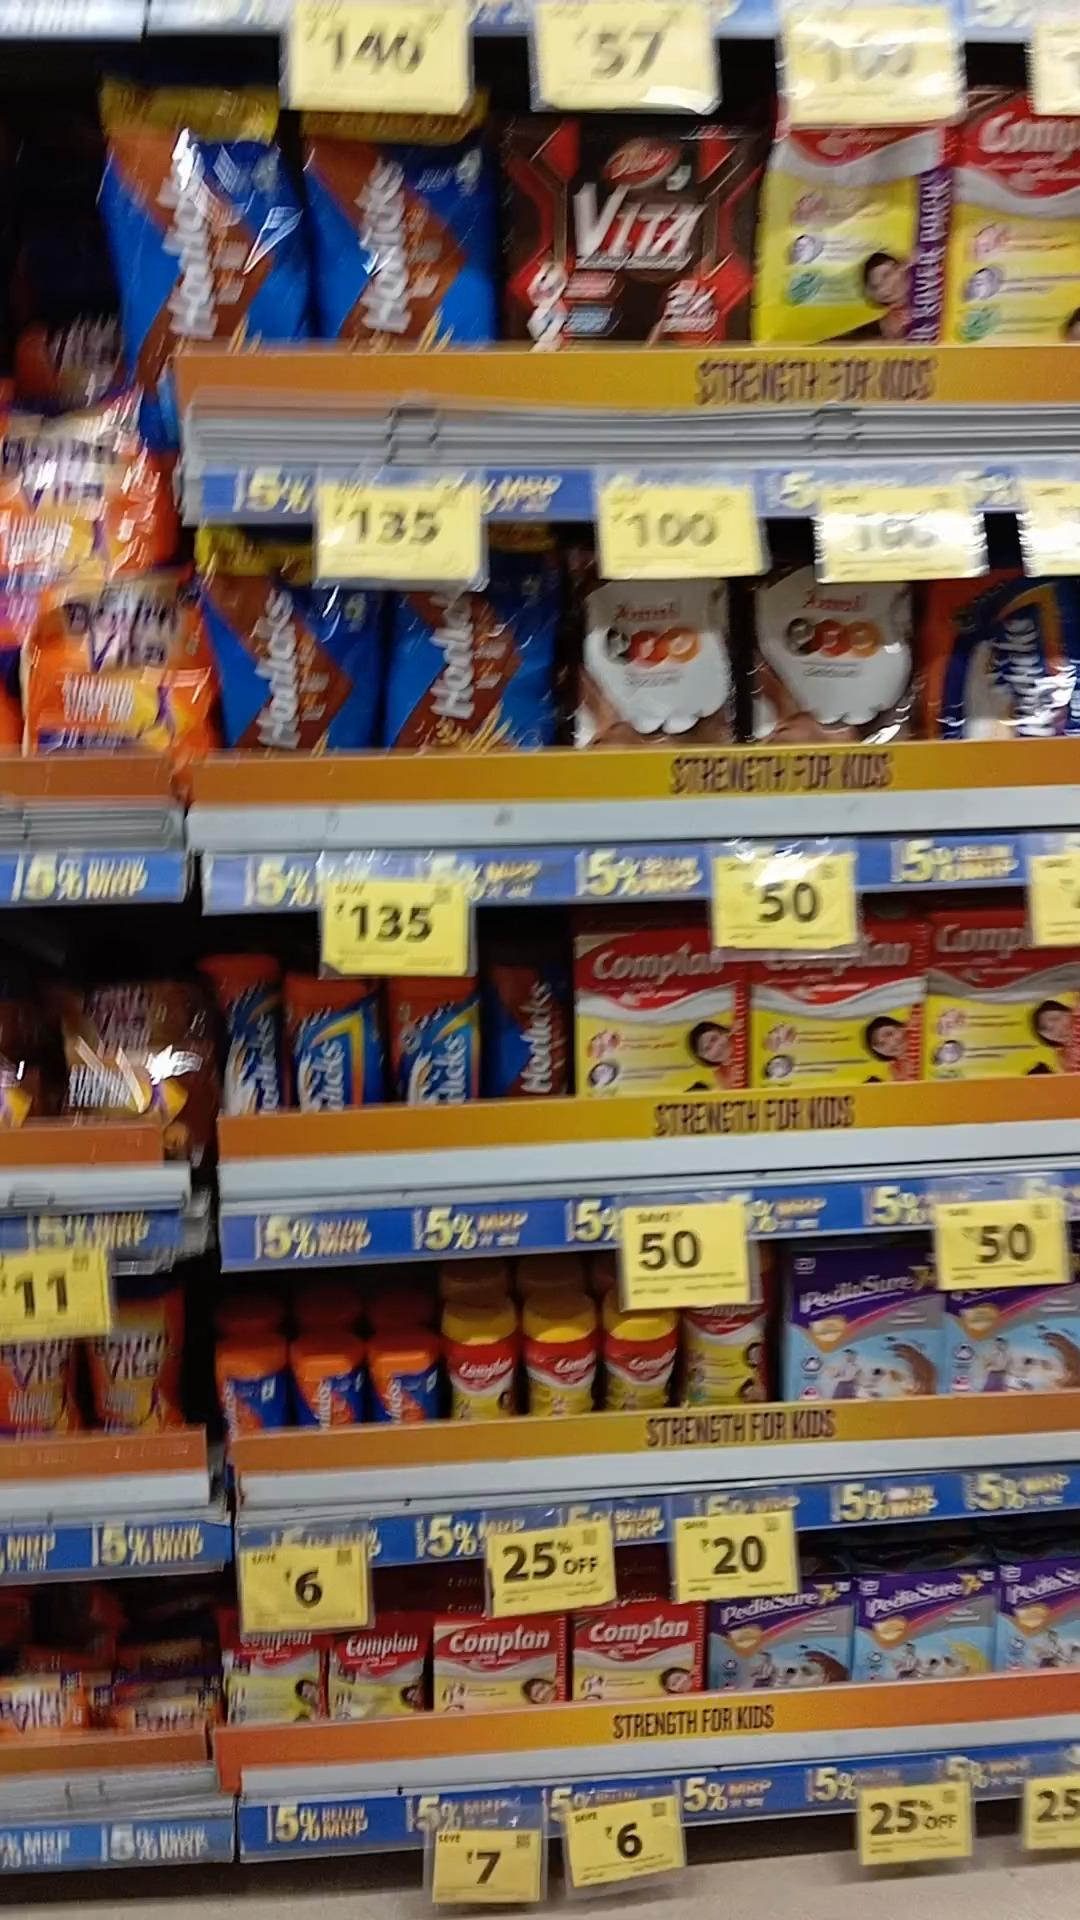HORLICK_CHOCOLATE_500_G_PACK: (108, 78, 287, 376), (310, 105, 488, 353), (210, 526, 344, 758)
